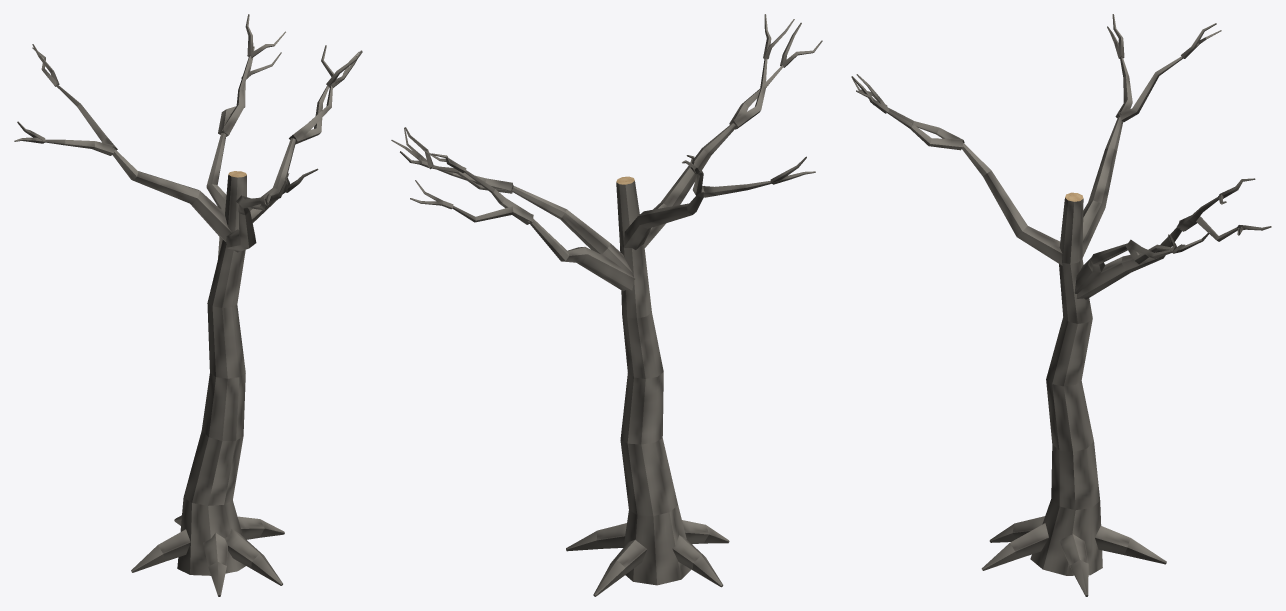
File: SM_Tree_Dead_Large01.fbx
3 views of the same model, side by side, from view 1: azimuth 30°, elevation 25°; view 2: azimuth 150°, elevation 25°; view 3: azimuth 270°, elevation 25° (orthographic).
Visible parts, largest first — view 1: SM_Tree_Dead_Large01; view 2: SM_Tree_Dead_Large01; view 3: SM_Tree_Dead_Large01.
Part boxes in pixels (x1,y1,x2,y2): SM_Tree_Dead_Large01: (14, 14, 362, 596); SM_Tree_Dead_Large01: (391, 14, 822, 596); SM_Tree_Dead_Large01: (851, 14, 1271, 596).
Size of the model in its own units: 16.3 by 20.06 by 15.57.
Materials: 1 (1 with a texture image).
